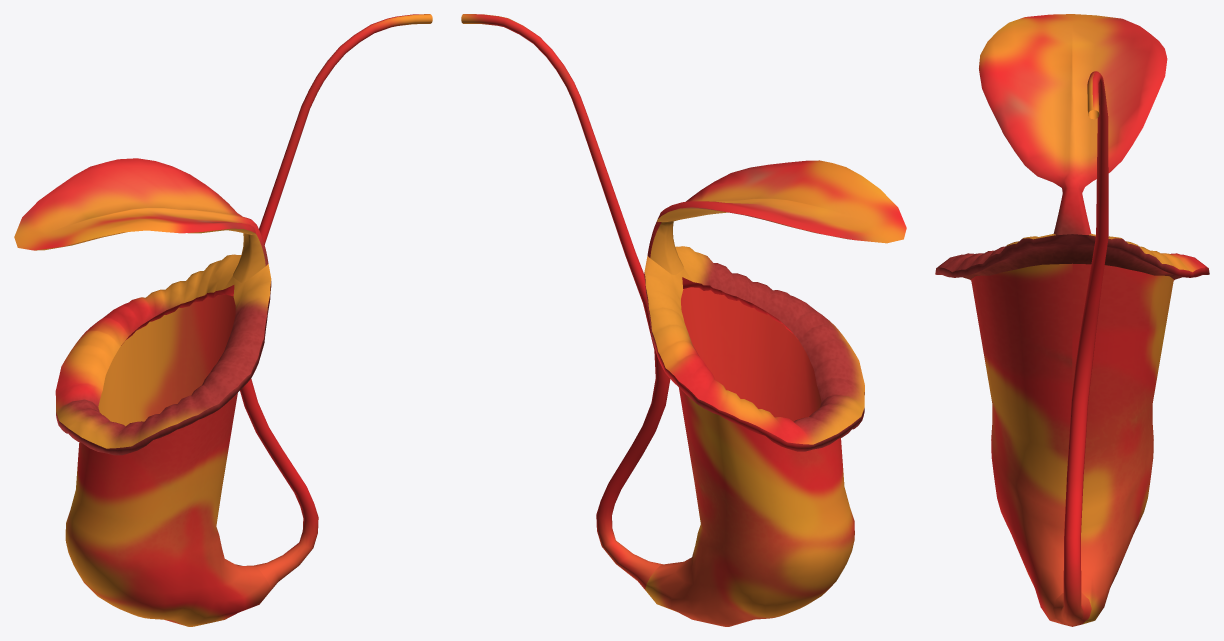
File: kantong semar.fbx
The picture shows the model from 3 angles, left to right: view 1: azimuth 30°, elevation 25°; view 2: azimuth 150°, elevation 25°; view 3: azimuth 270°, elevation 25°; orthographic projection. The views are drawn at different scales.
Parts seen in each view (by area): view 1: lp; view 2: lp; view 3: lp.
Boxes of the visible parts, <box> form: lp: <box>14,14,432,626</box>; lp: <box>461,14,906,626</box>; lp: <box>935,14,1209,626</box>.
Size of the model in its own units: 426 by 529 by 206.
Materials: 1 (1 with a texture image).
